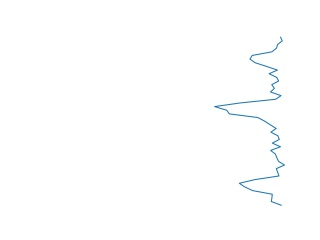underwaterNaturalLevee: (209, 35, 289, 206)
